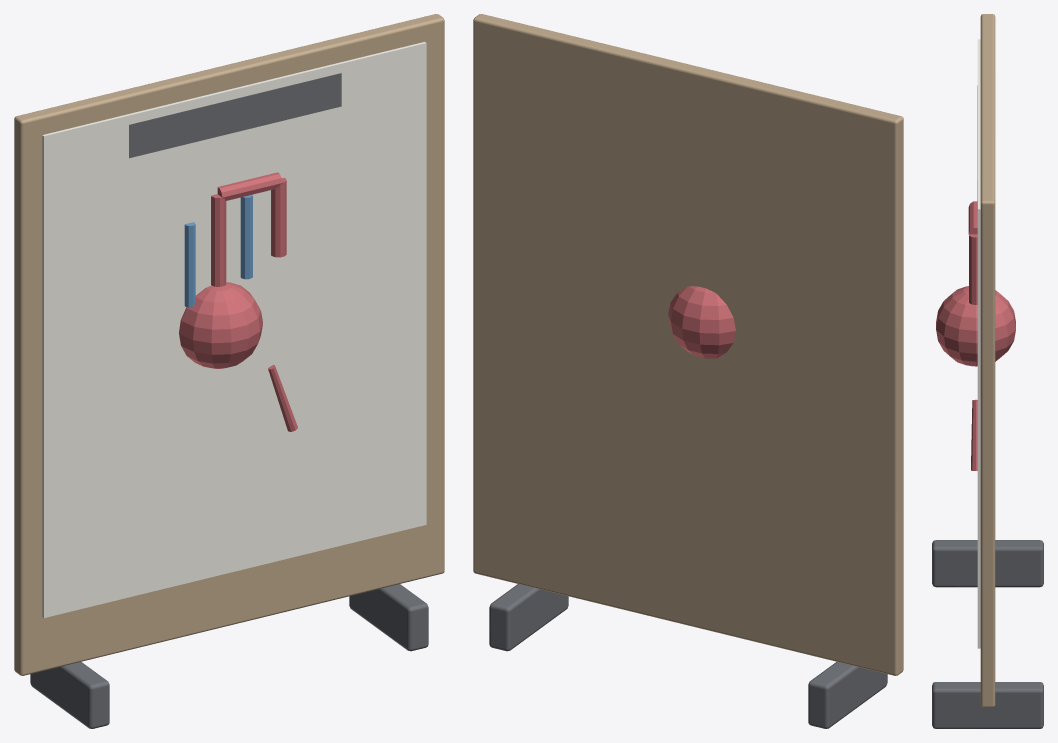
The model's file is human-anatomy-and-education-kit-wall-chart-heart-d5ca111d__38969.glb.
3 renders of one model, left to right at view 1: azimuth 30°, elevation 25°; view 2: azimuth 150°, elevation 25°; view 3: azimuth 270°, elevation 25°, orthographic. The views are drawn at different scales.
Visible parts, largest first — view 1: wall-chart-heart; view 2: wall-chart-heart; view 3: wall-chart-heart.
Boxes of the visible parts, box(x1,y1,x2,y2) form: wall-chart-heart: box(14, 14, 444, 728); wall-chart-heart: box(473, 14, 903, 728); wall-chart-heart: box(932, 14, 1043, 728).
Bounding box in the file's own units: 1.2 × 1.62 × 0.2999.
